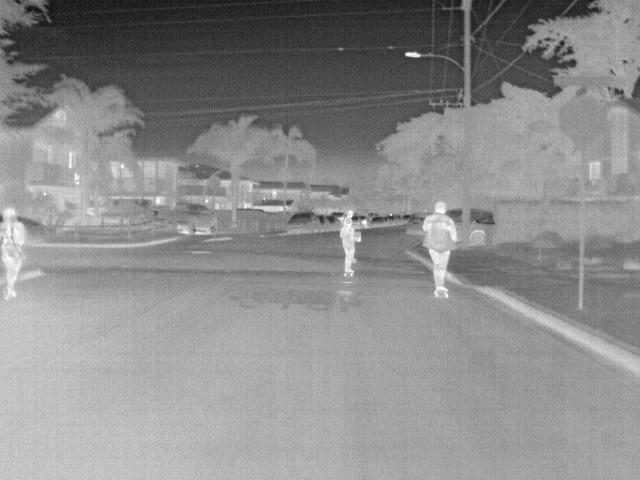car: (155, 201, 217, 235), (95, 198, 154, 223), (468, 206, 497, 248), (284, 213, 321, 234), (405, 214, 431, 232), (315, 214, 330, 232), (326, 214, 340, 230), (368, 218, 385, 228)
person: (420, 202, 457, 291), (1, 206, 27, 296), (340, 217, 358, 272)
